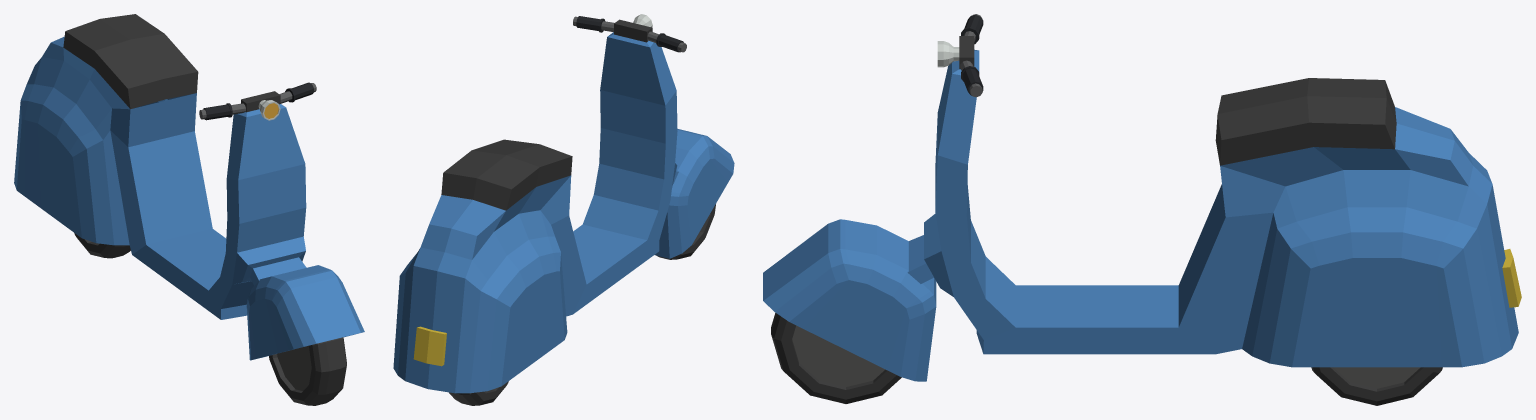
File: Scooter_2.fbx
3 views of the same model, side by side, from view 1: azimuth 30°, elevation 25°; view 2: azimuth 150°, elevation 25°; view 3: azimuth 270°, elevation 25° (orthographic). The views are drawn at different scales.
Parts seen in each view (by area): view 1: Scooter_2; view 2: Scooter_2; view 3: Scooter_2.
Boxes of the visible parts, <box> form: Scooter_2: <box>14,14,364,405</box>; Scooter_2: <box>393,14,734,405</box>; Scooter_2: <box>763,14,1521,405</box>.
Bounding box in the file's own units: 71.22 × 164 × 314.
